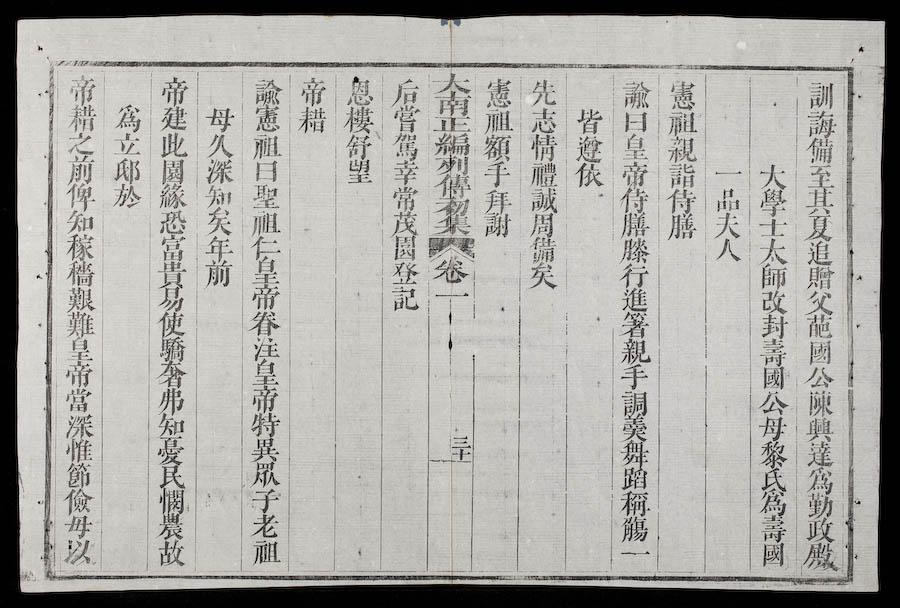c: (802, 541, 839, 571), (432, 256, 470, 285), (666, 78, 699, 111), (619, 78, 652, 110), (430, 71, 473, 95), (432, 132, 472, 157), (344, 74, 375, 106), (805, 80, 837, 111), (483, 76, 514, 108), (64, 103, 99, 131), (433, 174, 472, 199), (297, 75, 328, 106), (158, 75, 190, 105), (527, 77, 559, 107), (65, 73, 98, 102), (250, 77, 283, 106), (804, 111, 838, 139), (61, 537, 95, 565), (295, 106, 329, 134), (431, 93, 472, 116), (390, 76, 421, 106), (526, 263, 559, 291), (154, 539, 187, 567), (618, 516, 651, 544), (665, 213, 698, 241), (342, 107, 376, 134), (62, 311, 97, 337), (203, 207, 234, 236), (202, 260, 234, 288), (757, 338, 789, 366), (757, 440, 789, 468), (64, 155, 96, 183), (757, 514, 789, 542), (251, 105, 283, 133), (527, 134, 559, 162), (756, 238, 789, 265), (756, 189, 789, 216), (155, 361, 188, 388), (249, 539, 282, 566), (618, 312, 651, 339), (665, 136, 698, 163), (109, 183, 143, 209), (248, 310, 282, 336), (63, 286, 97, 312), (803, 188, 837, 214), (618, 338, 652, 364), (61, 413, 96, 438), (113, 102, 143, 131), (574, 106, 604, 135), (204, 105, 236, 132), (389, 286, 421, 313), (804, 389, 836, 416), (155, 437, 187, 464), (249, 258, 281, 285), (803, 214, 835, 241), (757, 162, 789, 189), (573, 135, 605, 162), (481, 134, 513, 161), (249, 512, 282, 538), (63, 260, 96, 286), (63, 234, 96, 260), (618, 238, 651, 264), (248, 386, 281, 412), (63, 184, 96, 210), (154, 513, 187, 539), (249, 461, 282, 487), (249, 211, 282, 237), (248, 436, 281, 462), (665, 163, 698, 189), (248, 412, 282, 437), (61, 362, 95, 387), (712, 212, 742, 240), (390, 105, 421, 132), (344, 159, 375, 186), (158, 105, 189, 132), (390, 159, 421, 186), (528, 108, 560, 134), (804, 138, 836, 164), (111, 157, 143, 183), (527, 188, 559, 214), (618, 490, 650, 516), (804, 441, 836, 467), (155, 311, 187, 337), (249, 360, 281, 386), (62, 487, 94, 513), (618, 187, 650, 213), (804, 467, 836, 493), (481, 213, 513, 239), (573, 163, 605, 189), (429, 115, 475, 133), (617, 263, 650, 288), (249, 336, 282, 361), (803, 290, 836, 315), (249, 487, 282, 512), (665, 188, 698, 213), (713, 186, 743, 213), (620, 134, 650, 161), (528, 237, 558, 264), (390, 133, 420, 160), (619, 162, 650, 188), (619, 441, 650, 467), (157, 235, 188, 261), (156, 388, 187, 414), (156, 487, 187, 513), (63, 461, 94, 487), (156, 286, 187, 312), (250, 184, 281, 210), (619, 213, 650, 239), (619, 390, 650, 416), (528, 162, 559, 188), (204, 159, 235, 185), (251, 134, 282, 160), (389, 211, 421, 236), (618, 364, 650, 389), (757, 390, 789, 415), (804, 265, 836, 290), (111, 132, 143, 157), (156, 262, 188, 287), (804, 314, 836, 339), (62, 387, 94, 412), (804, 416, 836, 441), (433, 215, 473, 235), (63, 338, 95, 363), (803, 492, 835, 517), (666, 111, 698, 136), (482, 109, 514, 134), (249, 286, 282, 310), (62, 438, 95, 462), (63, 210, 96, 234), (482, 162, 512, 188), (158, 132, 188, 158), (205, 133, 235, 159), (758, 265, 789, 290), (758, 313, 789, 338), (203, 236, 234, 261), (389, 261, 420, 286), (757, 415, 788, 440), (157, 337, 188, 362), (619, 416, 650, 441), (758, 489, 789, 514), (482, 189, 513, 214), (157, 184, 188, 209), (803, 241, 835, 265), (156, 210, 188, 234), (804, 517, 836, 541), (62, 513, 94, 537), (432, 156, 472, 175), (433, 288, 471, 308), (249, 236, 282, 259), (158, 158, 187, 184), (805, 340, 835, 365), (758, 542, 788, 567), (343, 134, 373, 159), (390, 186, 420, 211), (619, 288, 650, 312), (619, 466, 650, 490), (156, 464, 187, 488), (805, 164, 836, 188), (758, 290, 789, 314), (155, 414, 187, 437), (65, 132, 97, 155), (803, 365, 835, 388), (390, 236, 419, 261), (528, 213, 557, 238), (621, 110, 651, 134), (758, 467, 788, 491), (203, 185, 234, 208), (250, 160, 281, 183), (713, 239, 742, 263), (756, 217, 789, 238), (759, 366, 787, 390), (433, 198, 472, 215), (617, 546, 652, 563), (712, 164, 743, 181), (450, 432, 471, 448), (450, 448, 471, 460)
